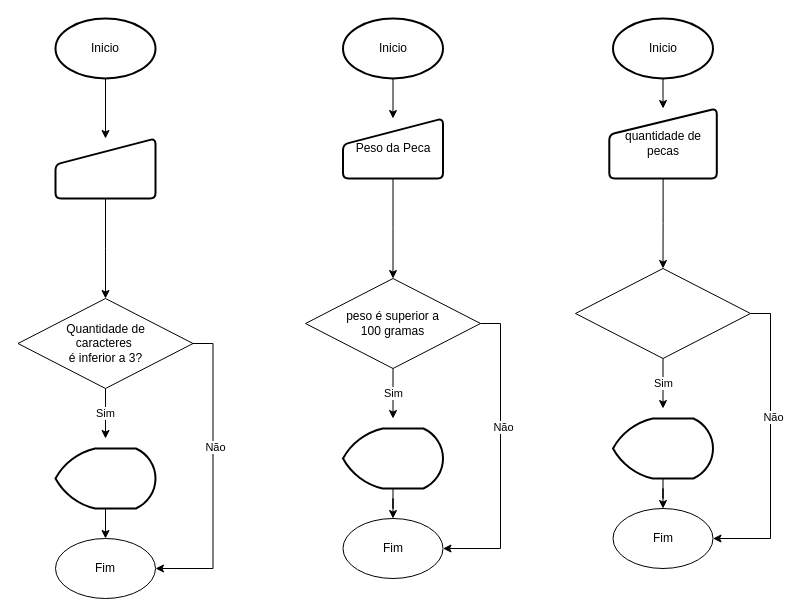
Some shapes in this 800 by 616 pixel diagram are drawn without their labels. The shapes that lost their labels are listed below. From the top down, each one's centre as x and y in pixels, then its label:
At point 105,168: "Nome da peca".
At point 662,313: "quantidade é maior que 10?".
At point 393,458: "cadastrar".
At point 663,448: "capacidade insuficiente".
At point 105,478: "Msg de erro".
